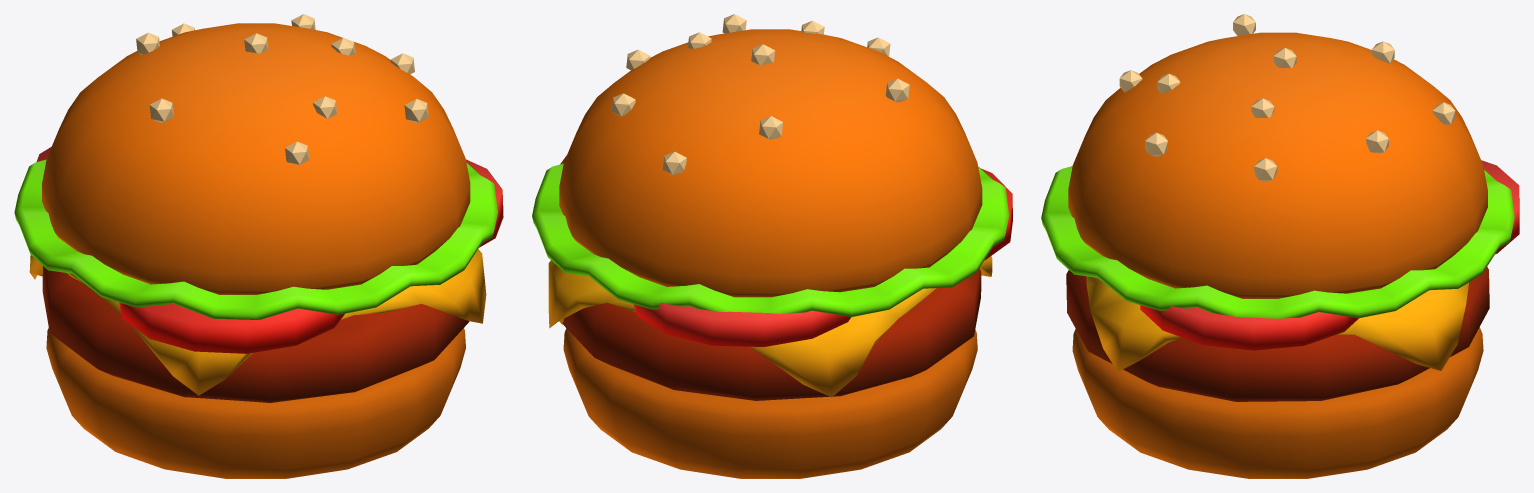
File: Collectable_Burger_01.fbx
The picture shows the model from 3 angles, left to right: view 1: azimuth 30°, elevation 25°; view 2: azimuth 150°, elevation 25°; view 3: azimuth 270°, elevation 25°; orthographic projection. The views are drawn at different scales.
Visible parts, largest first — view 1: Collectable_Burger_01; view 2: Collectable_Burger_01; view 3: Collectable_Burger_01.
Boxes of the visible parts, bbox=[...] form: Collectable_Burger_01: bbox=[14, 14, 503, 478]; Collectable_Burger_01: bbox=[532, 14, 1012, 478]; Collectable_Burger_01: bbox=[1041, 14, 1519, 478].
Size of the model in its own units: 78.61 by 65 by 77.59.
Materials: 1 (1 with a texture image).
